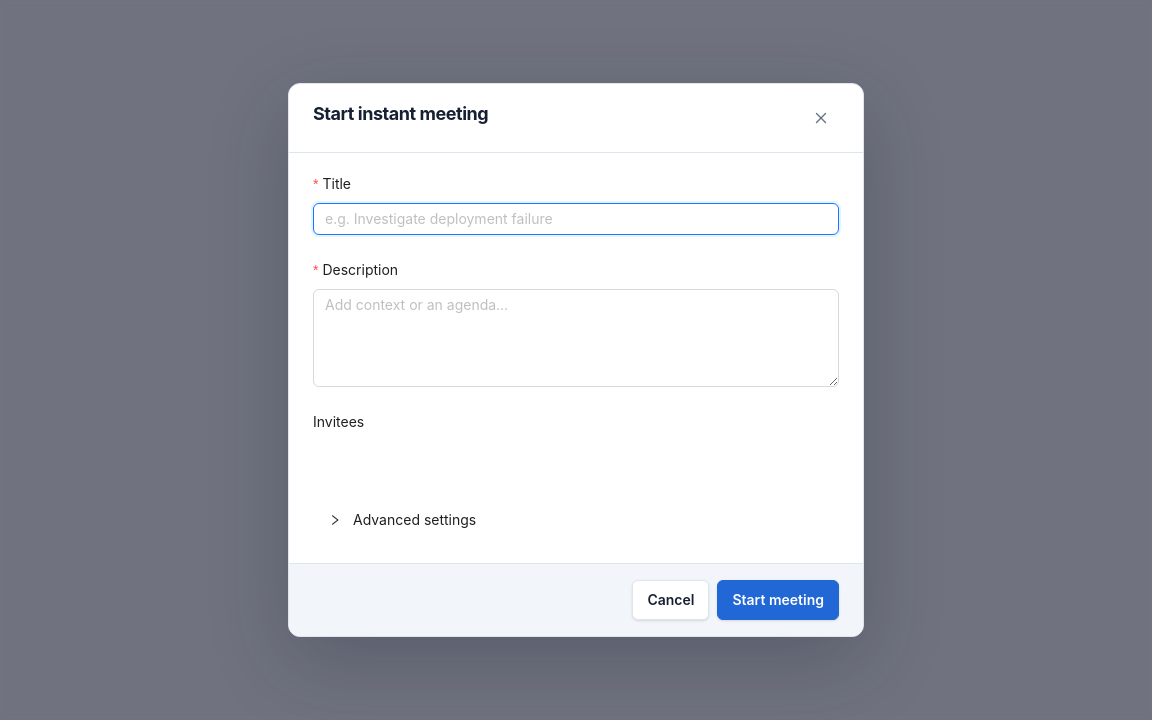
Scenario: StartInstantMeetingModal result handling › keeps the modal open and shows the message when the result carries an error
The width and height of the screenshot is (1152, 720).
In the field with placeholder "e.g. Investigate deployment failure": point(576, 219) [313,203,839,235], type "Incident sync"
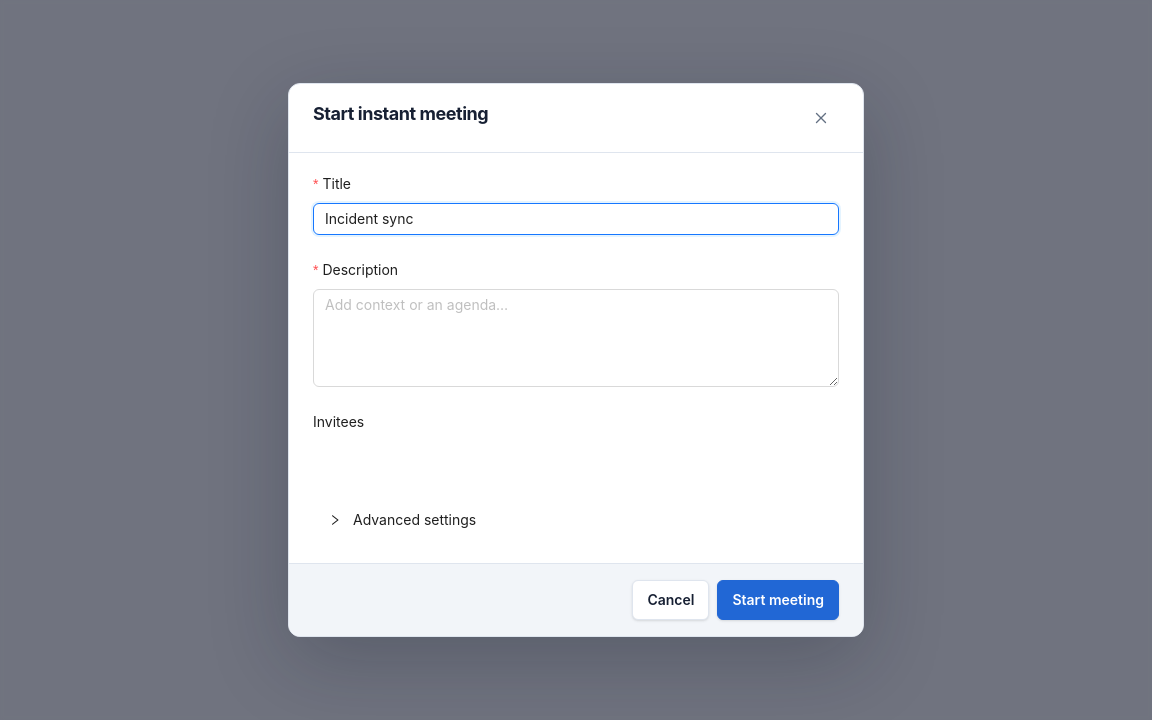
In the text box with placeholder "Add context or an agenda…": point(576, 338) [313,289,839,387], type "Coordinate the incident response"
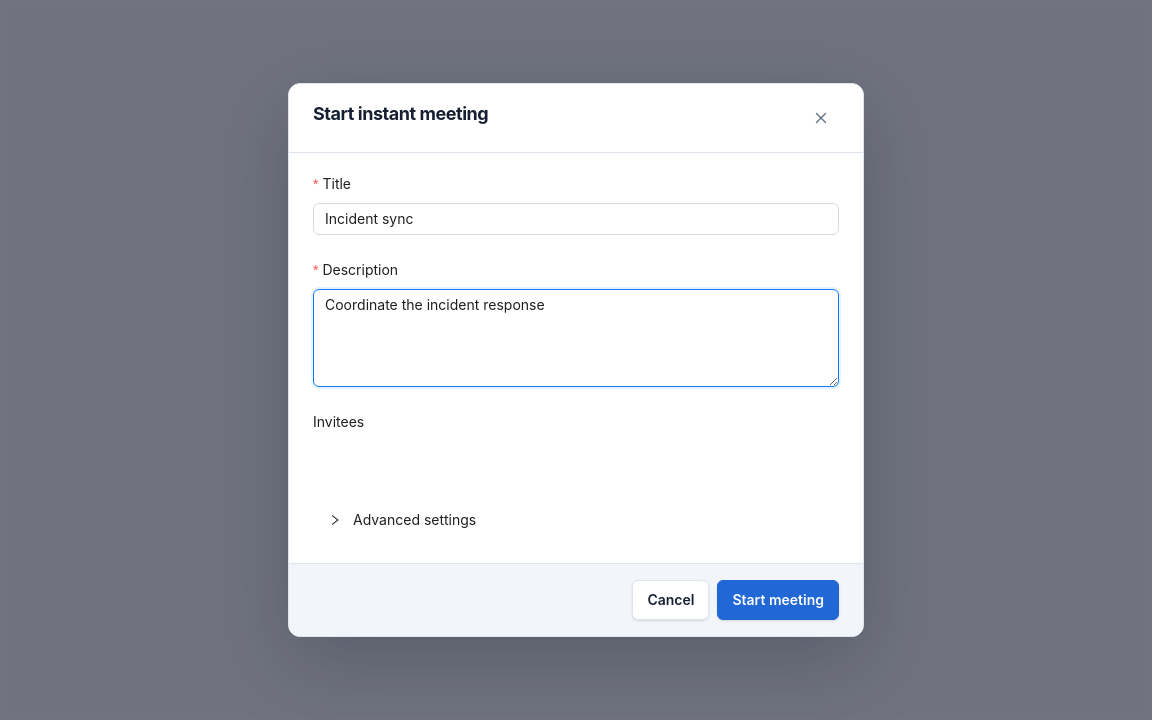
Click the button "Start meeting": point(778, 600) [718,580,839,620]
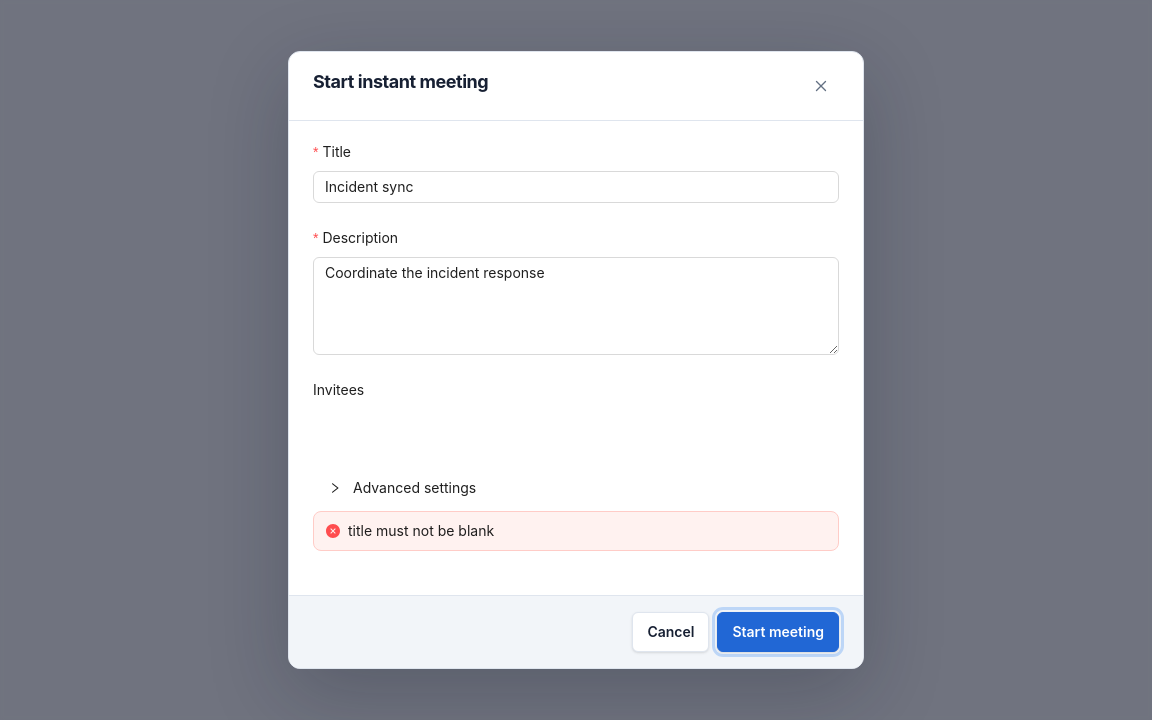
Check: the text "title must not be blank" is shown, box [348,522,494,539]
